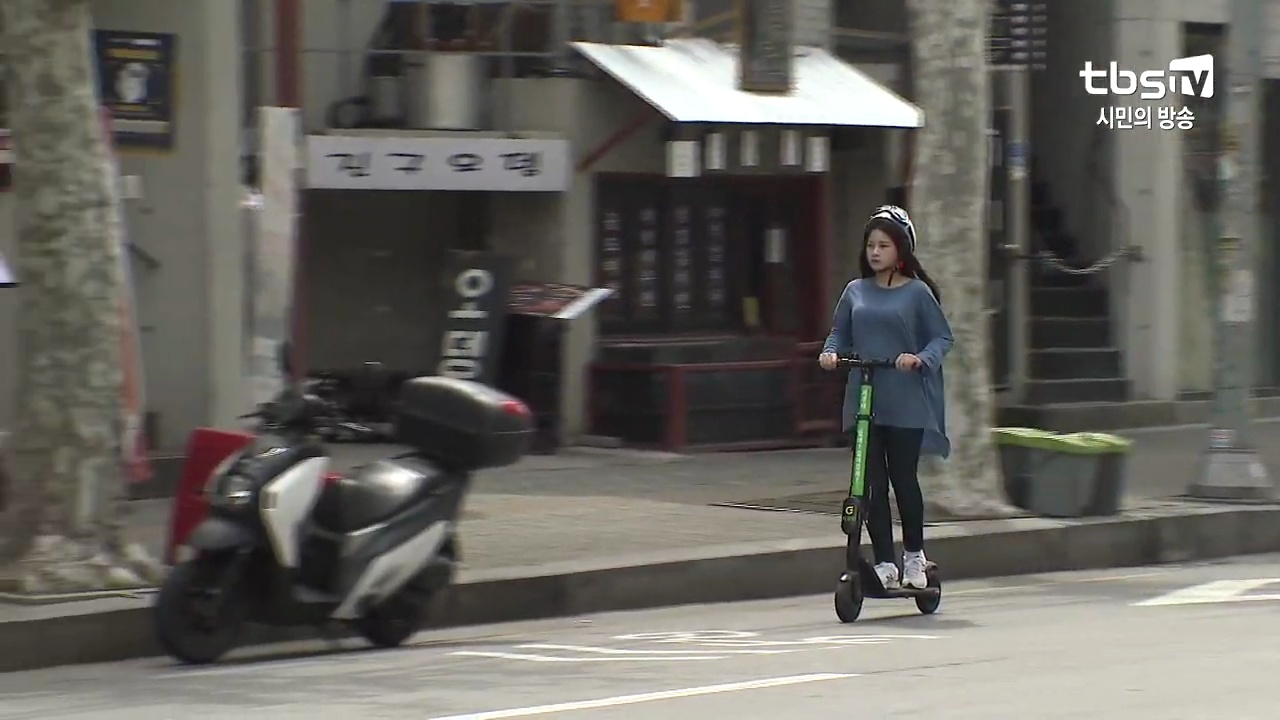helmet: (814, 201, 956, 620)
